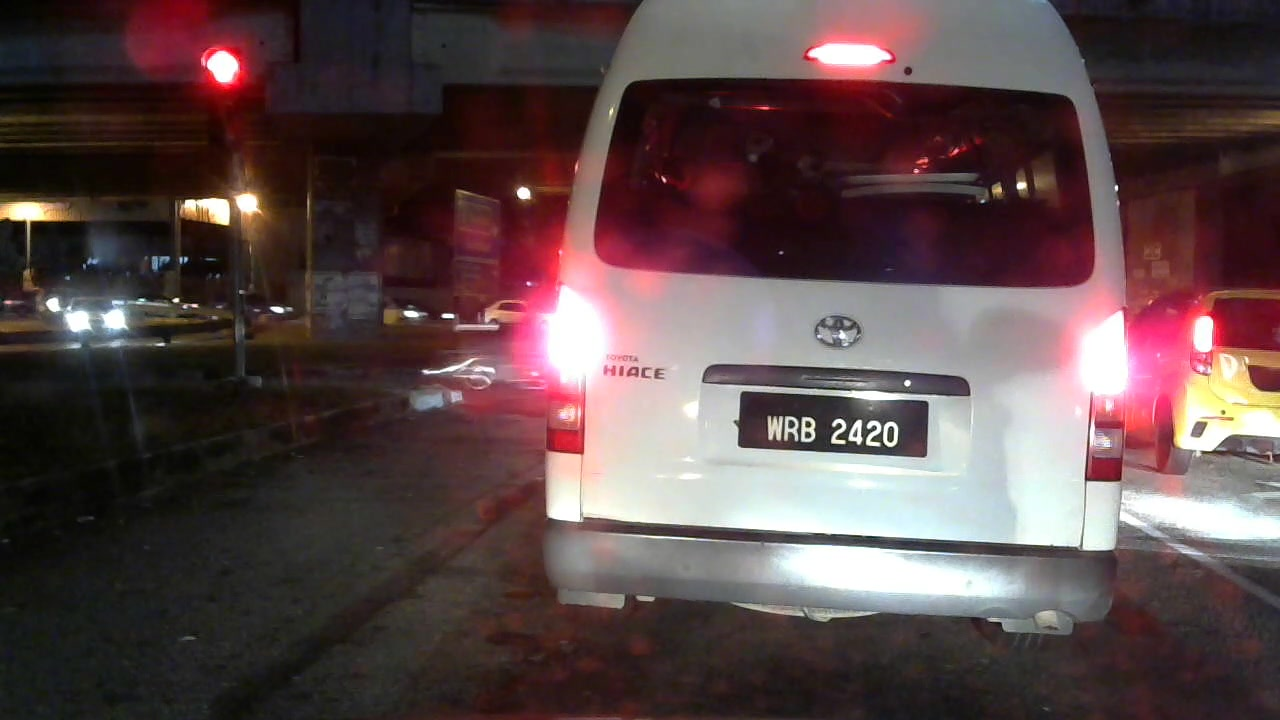Car: (1134, 273, 1280, 480), (52, 283, 139, 344), (471, 291, 538, 329)
